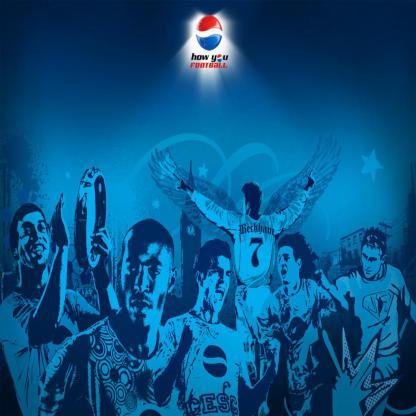face: (122, 242, 173, 327), (19, 213, 50, 265), (204, 257, 232, 314), (278, 247, 298, 285), (362, 244, 382, 279)
